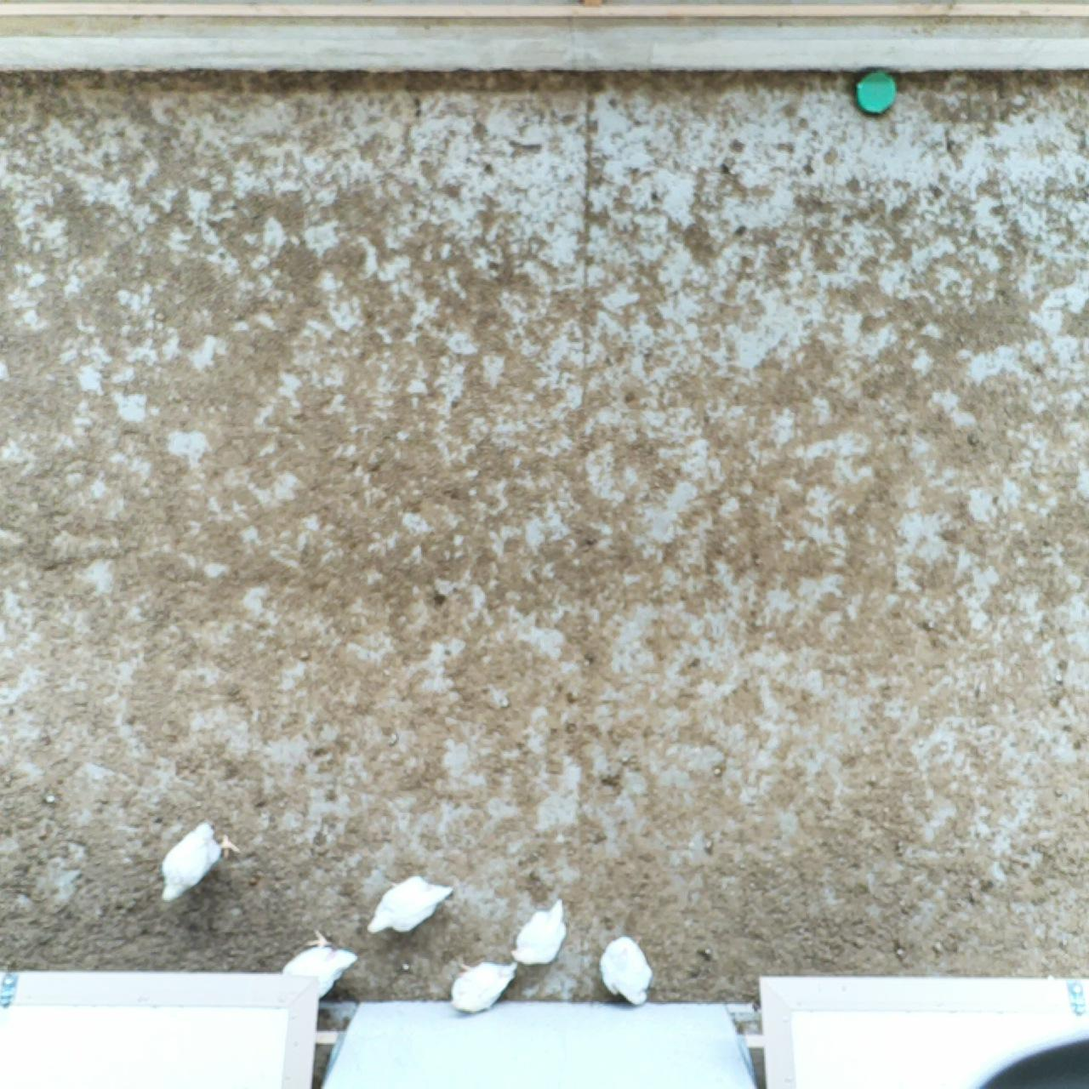chicken: (155, 815, 243, 907), (362, 870, 460, 938), (279, 925, 364, 1002), (590, 931, 657, 1010), (446, 954, 522, 1019), (509, 895, 572, 969)
